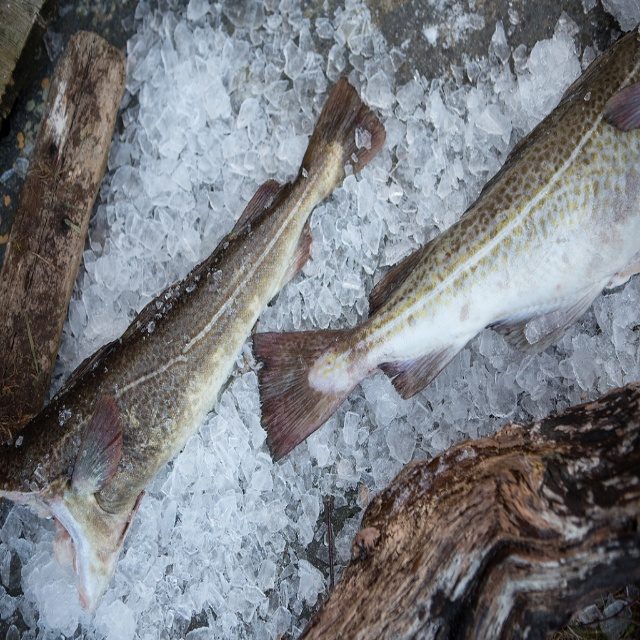Fish: (0, 65, 390, 620), (259, 66, 633, 472)
